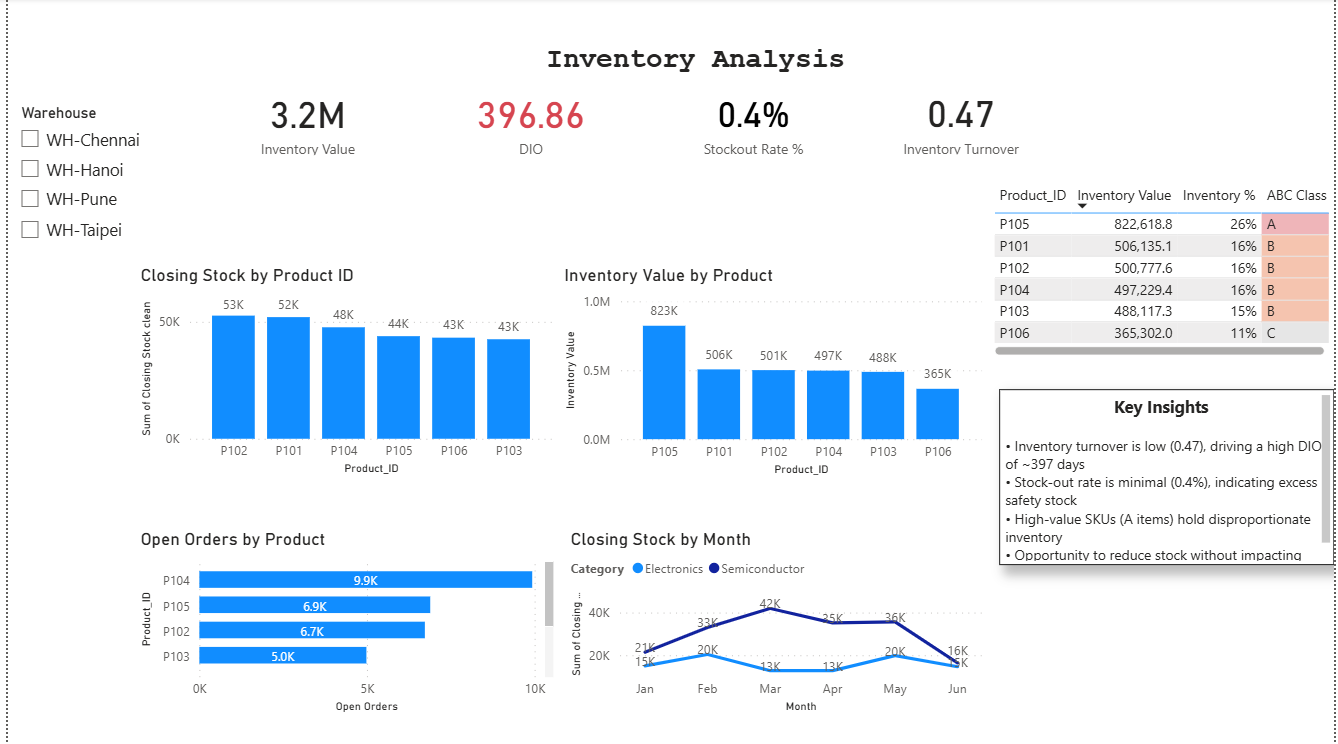

This screenshot's page, from the dashboard's own definition file:
{"tool":"powerbi","page":{"name":"Inventory Analysis","canvas":[1280,720],"ordinal":1},"visuals":[{"type":"card","fields":{"Values":["_Measures.Inventory Value"]},"box":[184.5,79.6,209.8,77.2],"z":0},{"type":"card","fields":{"Values":["_Measures.DIO"]},"box":[407.6,78.4,194.2,79.6],"z":1000},{"type":"card","fields":{"Values":["_Measures.Stockout Rate %"]},"box":[633.2,79.6,172.5,78.4],"z":2000},{"type":"columnChart","title":"Closing Stock by Product ID","fields":{"Category":["Product_Master.Product_ID"],"Y":["Sum(Inventory_Data.Closing Stock clean)"]},"box":[123.6,256.8,408.3,208.4],"z":3000},{"type":"lineClusteredColumnComboChart","title":"Inventory Value by Product","fields":{"Category":["Inventory_Data.Product_ID"],"Y":["_Measures.Inventory Value"]},"box":[531.8,256.8,413.1,208.4],"z":4000},{"type":"lineChart","title":"Closing Stock by Month","fields":{"Category":["Date_Table.Month"],"Series":["Product_Master.Category"],"Y":["Sum(Inventory_Data.Closing Stock clean)"]},"box":[537.9,511.4,407.6,183.3],"z":5000},{"type":"slicer","fields":{"Values":["Inventory_Data.Warehouse"]},"box":[0,97.7,141.1,152],"z":6000},{"type":"textbox","box":[59.8,39.4,1206.2,58.3],"z":7000},{"type":"barChart","title":"Open Orders by Product","fields":{"Category":["Orders_Data.Product_ID"],"Y":["_Measures.Open Orders"]},"box":[123.6,511.2,408.3,182.9],"z":8000},{"type":"card","fields":{"Values":["_Measures.Inventory Turnover"]},"box":[832.2,79.6,174.9,76],"z":9000},{"type":"tableEx","fields":{"Values":["Inventory_Data.Product_ID","_Measures.Inventory Value","_Measures.Inventory %","_Measures.ABC Class"]},"box":[945.5,173.7,334.1,176.1],"z":10000},{"type":"actionButton","box":[0,0,100,40],"z":11000},{"type":"textbox","box":[955.8,378,323.5,169.6],"z":12000}]}

Visuals, with their boxes in screenshot pixels (x1, y1, x2, y2), scaled from the page's 1280x720 canvas onto the 1338x744 screenshot:
card - _Measures.Inventory Value: {"x1": 193, "y1": 82, "x2": 412, "y2": 162}
card - _Measures.DIO: {"x1": 426, "y1": 81, "x2": 629, "y2": 163}
card - _Measures.Stockout Rate %: {"x1": 662, "y1": 82, "x2": 842, "y2": 163}
"Closing Stock by Product ID" columnChart: {"x1": 129, "y1": 265, "x2": 556, "y2": 481}
"Inventory Value by Product" lineClusteredColumnComboChart: {"x1": 556, "y1": 265, "x2": 988, "y2": 481}
"Closing Stock by Month" lineChart: {"x1": 562, "y1": 528, "x2": 988, "y2": 718}
slicer - Inventory_Data.Warehouse: {"x1": 0, "y1": 101, "x2": 147, "y2": 258}
textbox: {"x1": 63, "y1": 41, "x2": 1323, "y2": 101}
"Open Orders by Product" barChart: {"x1": 129, "y1": 528, "x2": 556, "y2": 717}
card - _Measures.Inventory Turnover: {"x1": 870, "y1": 82, "x2": 1053, "y2": 161}
tableEx - Inventory_Data.Product_ID x _Measures.Inventory Value: {"x1": 988, "y1": 179, "x2": 1337, "y2": 361}
actionButton: {"x1": 0, "y1": 0, "x2": 105, "y2": 41}
textbox: {"x1": 999, "y1": 391, "x2": 1337, "y2": 566}
